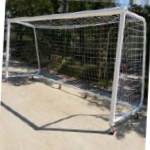goals: (6, 5, 147, 123)
